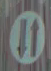Two way: (4, 5, 45, 62)
